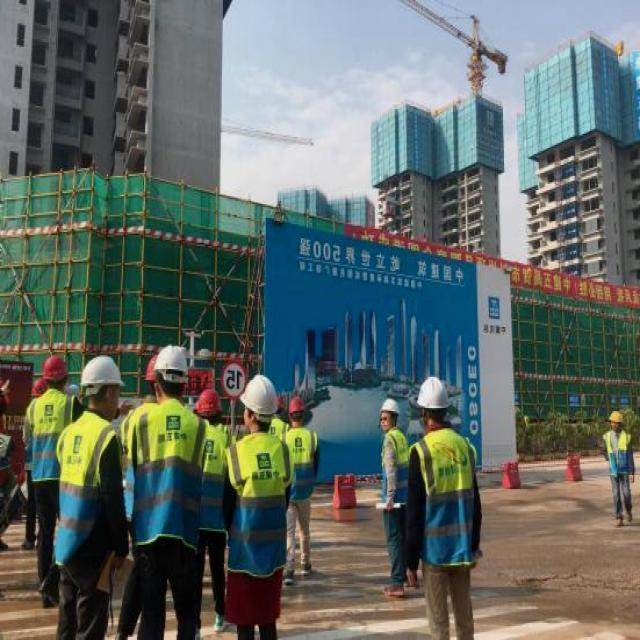head_helmet: (240, 374, 282, 416), (80, 355, 124, 388), (413, 372, 452, 407), (153, 341, 190, 374), (38, 355, 71, 377), (196, 386, 223, 411), (380, 396, 402, 414), (287, 396, 305, 412), (29, 382, 44, 396), (608, 409, 622, 424)
person: (52, 354, 123, 632), (219, 374, 294, 634), (132, 341, 196, 632), (409, 366, 477, 635), (24, 347, 76, 584), (192, 389, 225, 622), (284, 383, 322, 582), (382, 383, 408, 600), (603, 405, 634, 522)
shoes: (380, 577, 410, 599), (299, 554, 317, 580), (613, 510, 626, 527), (626, 510, 635, 527)
vest: (56, 419, 122, 579), (223, 434, 288, 588), (134, 405, 206, 540), (410, 434, 477, 568), (24, 386, 78, 481), (193, 419, 229, 537), (380, 428, 413, 506), (285, 425, 316, 503), (602, 428, 630, 478)
